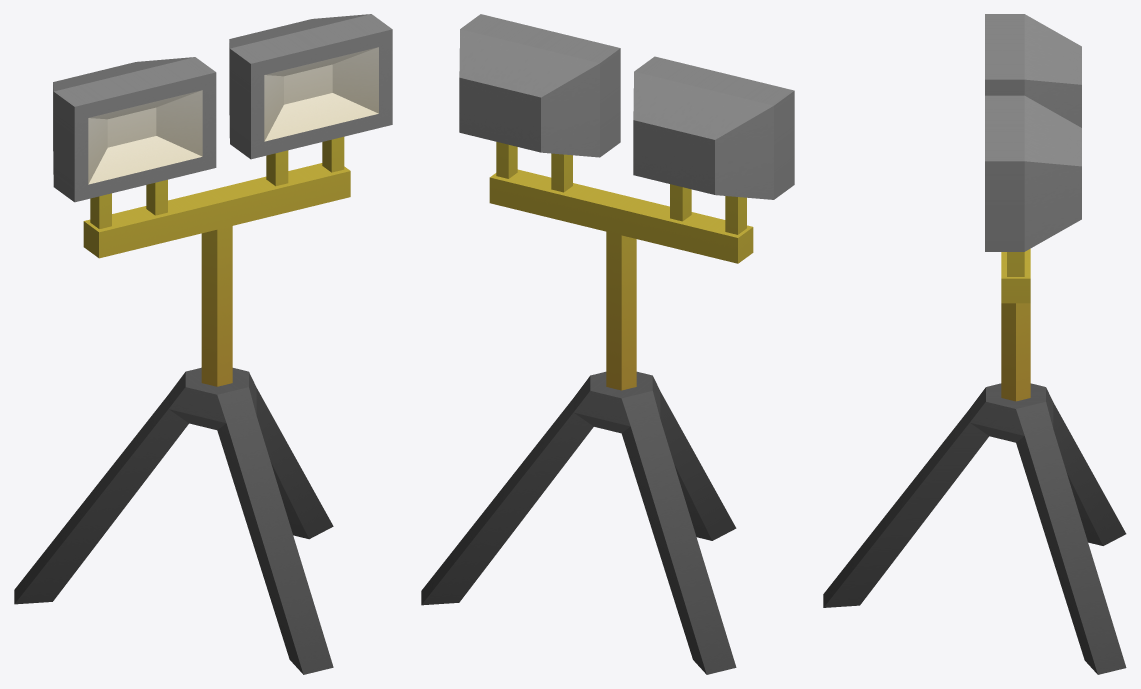
The model's file is Floodlight.obj.
3 views of the same model, side by side, from view 1: azimuth 30°, elevation 25°; view 2: azimuth 150°, elevation 25°; view 3: azimuth 270°, elevation 25° (orthographic). The views are drawn at different scales.
Parts seen in each view (by area): view 1: Cube.001_Cube.003; view 2: Cube.001_Cube.003; view 3: Cube.001_Cube.003.
Part boxes in pixels (x1,y1,x2,y2): Cube.001_Cube.003: (14,14,392,674); Cube.001_Cube.003: (421,14,794,674); Cube.001_Cube.003: (823,14,1126,674).
Bounding box in the file's own units: 1.02 × 1.65 × 0.8806.
